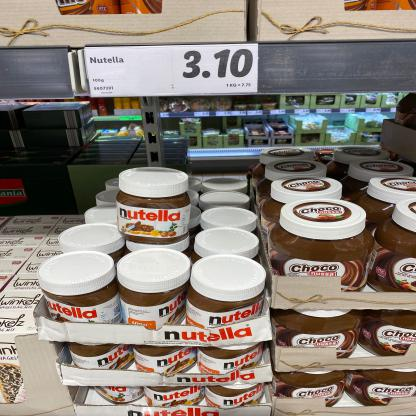prtg: (85, 45, 259, 98)
